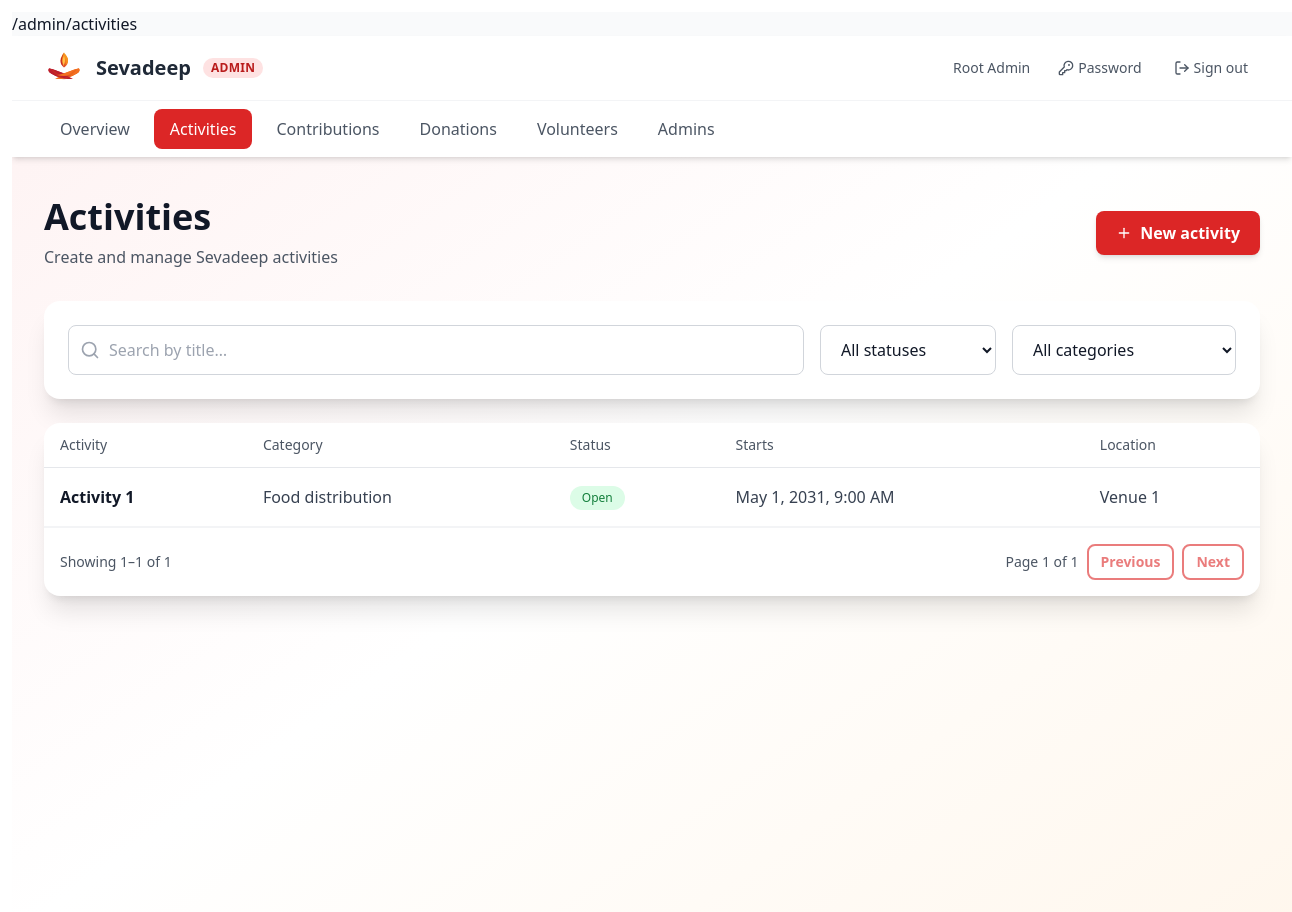
Test: admin Activities list › filters by status and category and searches, all reflected in the URL
Expected: the link "Activity 1" is shown, [60,486,134,508]
Select "Draft" in the dropdown named "Filter by status" at (908, 350), box [820,325,996,375]
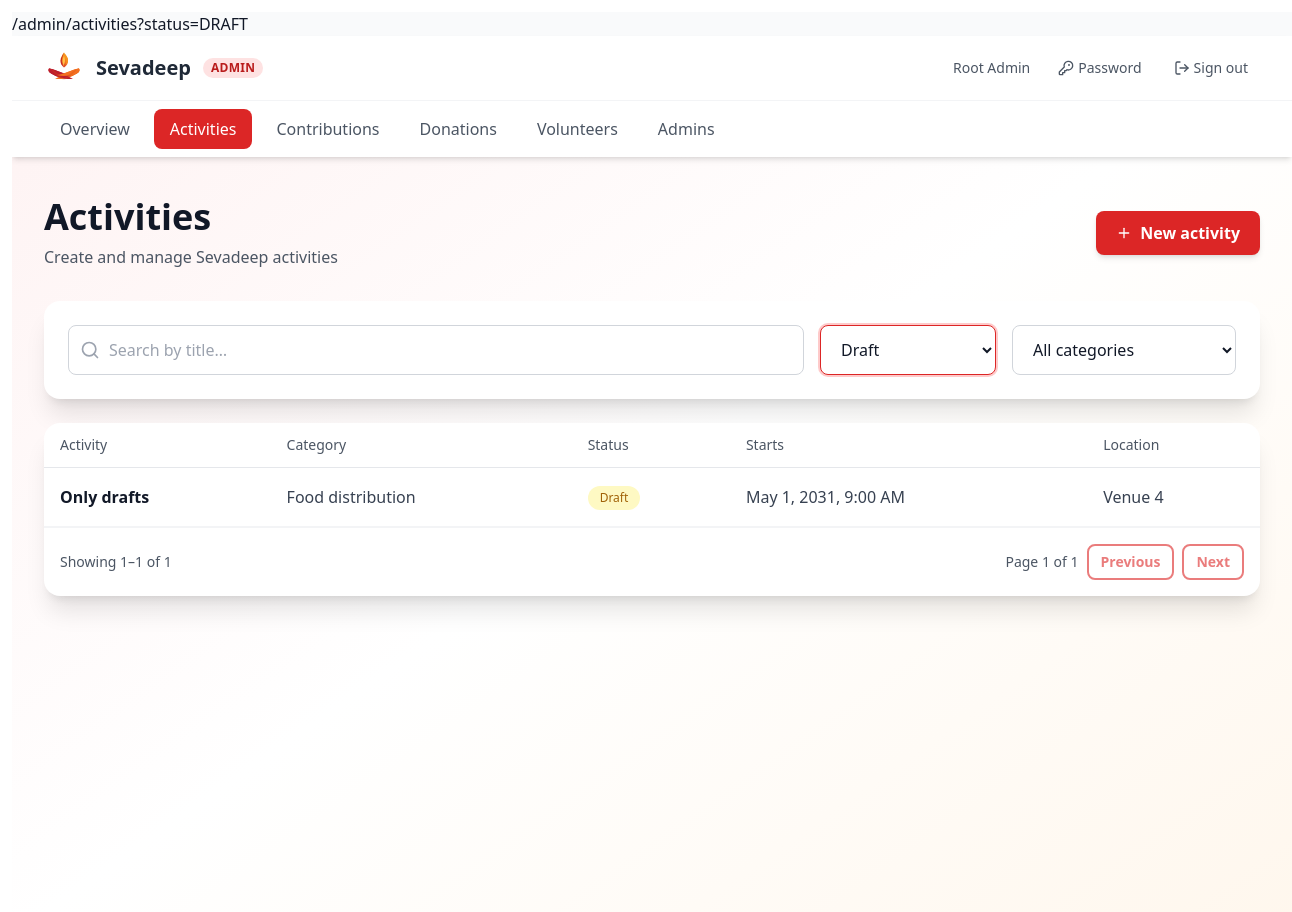
Result: the link "Only drafts" is shown at [60,486,149,508]
Result: the text with test id "location" reads "/admin/activities?status=DRAFT" at [12,13,248,35]
Select "All statuses" in the dropdown named "Filter by status" at (908, 350), box [820,325,996,375]
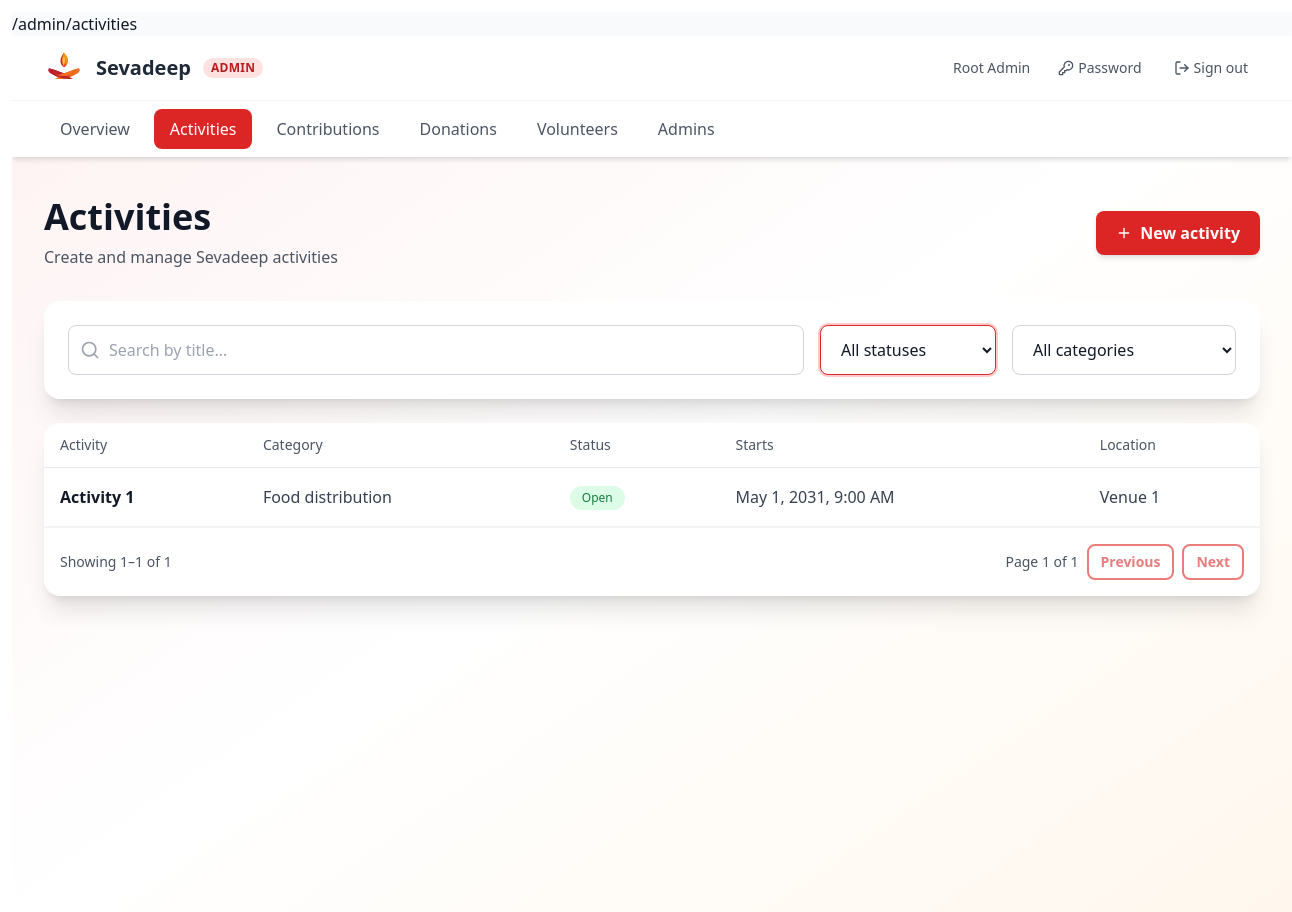
Select "Health camp" in the dropdown named "Filter by category" at (1124, 350), box [1012,325,1236,375]
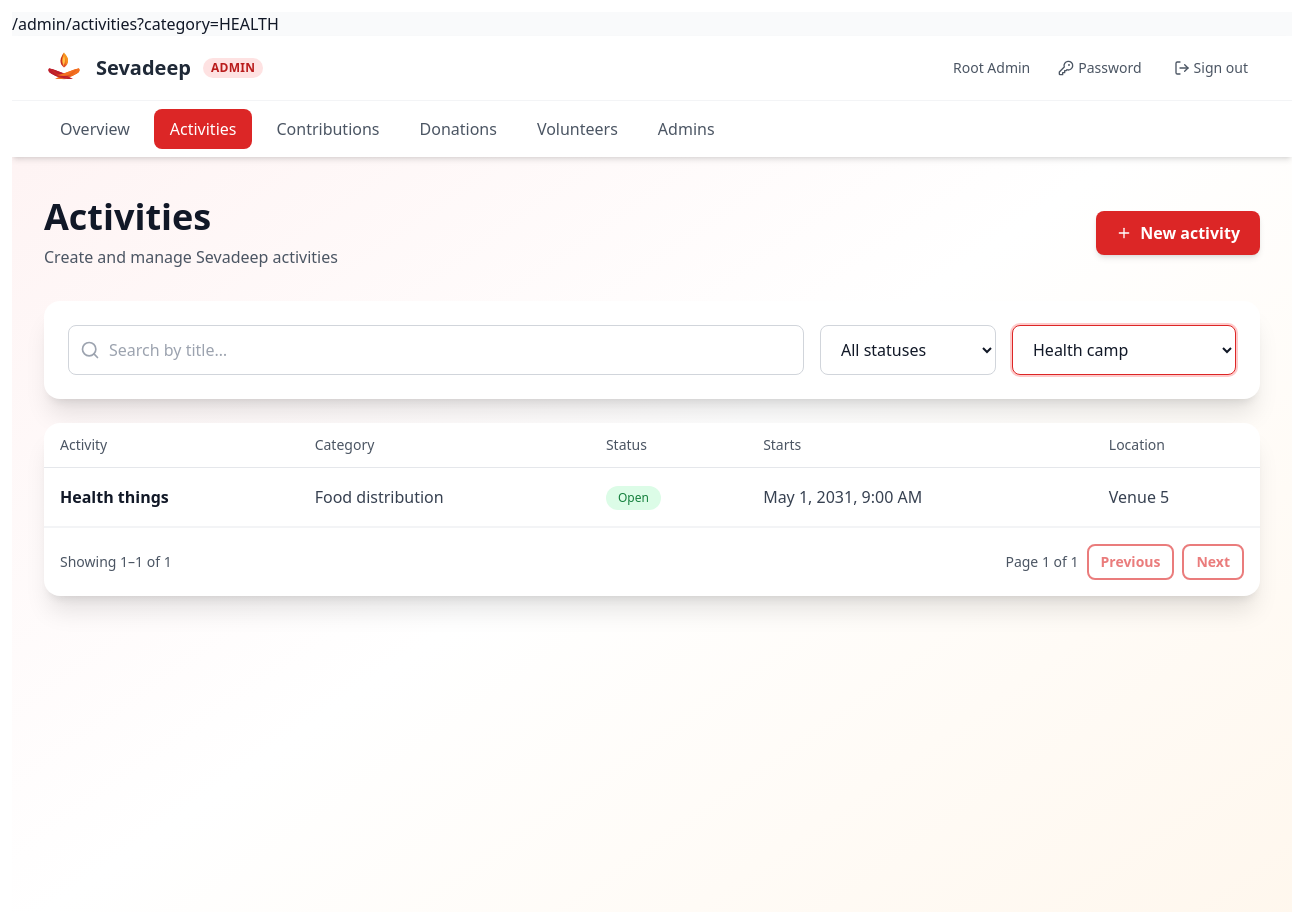
Result: the link "Health things" is shown at [60,486,169,508]
Select "All categories" in the dropdown named "Filter by category" at (1124, 350), box [1012,325,1236,375]
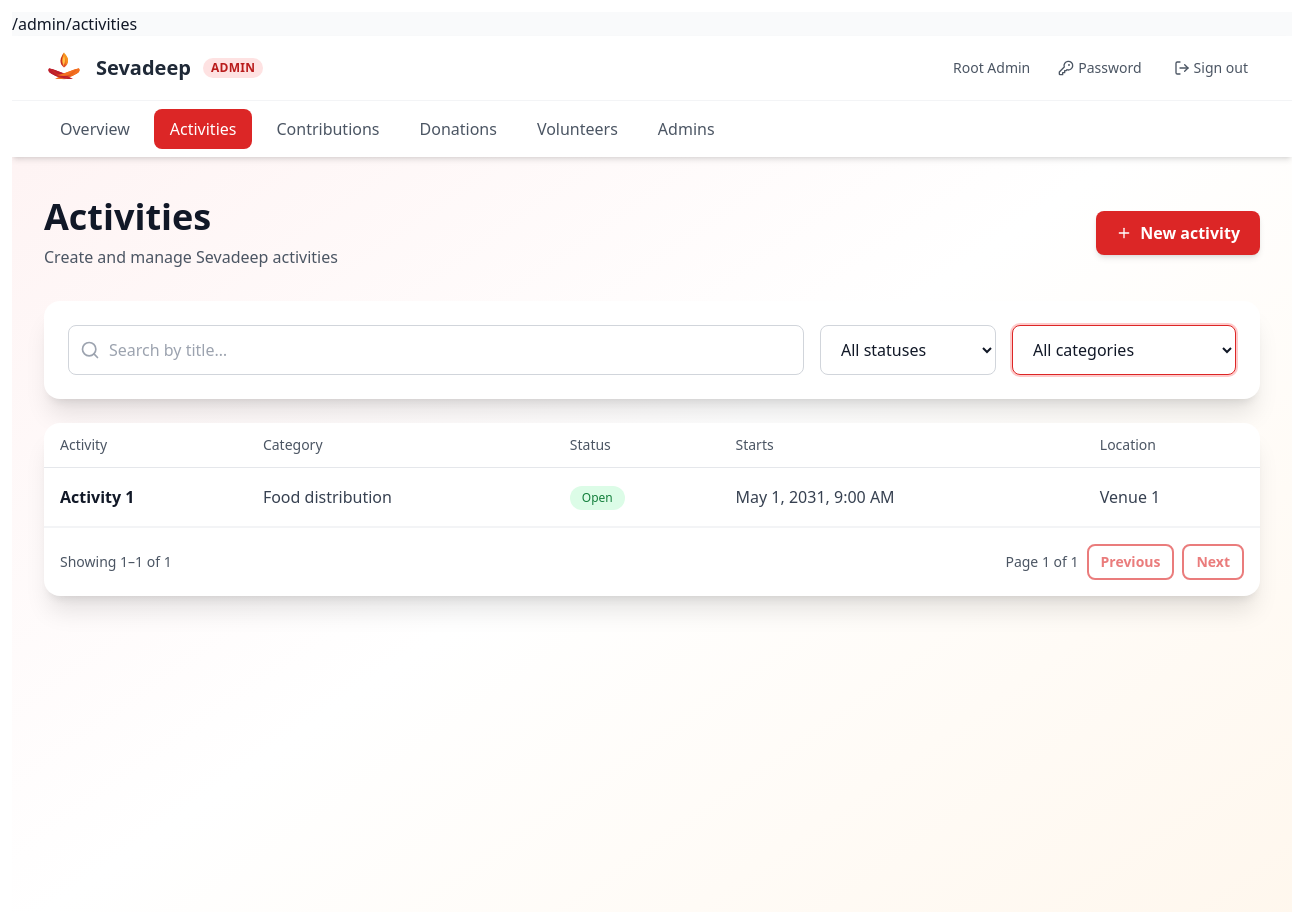
Type "hit" into the search field named "Search activities" at (436, 350), box [68,325,804,375]
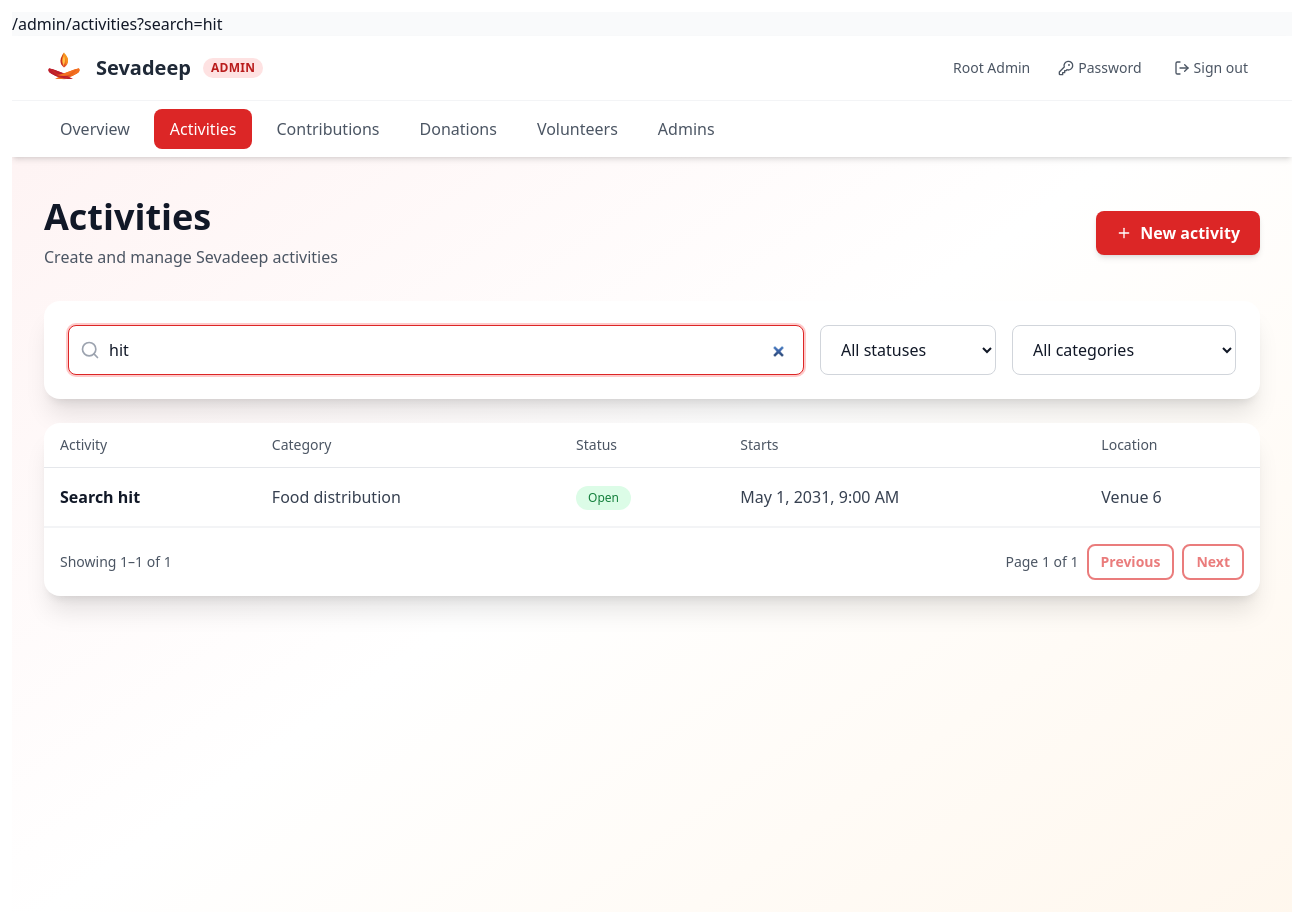
Result: the link "Search hit" is shown at [60,486,140,508]
Result: the text with test id "location" reads "/admin/activities?search=hit" at [12,13,222,35]
